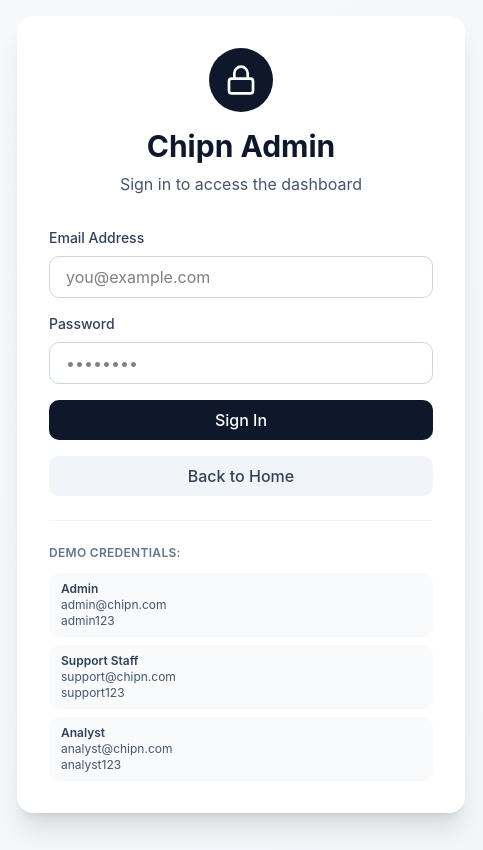
Test: AdminLoginPage › disables submit button while loading
Type "admin@chipn.com" into the field with placeholder "you@example.com" at (241, 276), box [49,256,433,298]
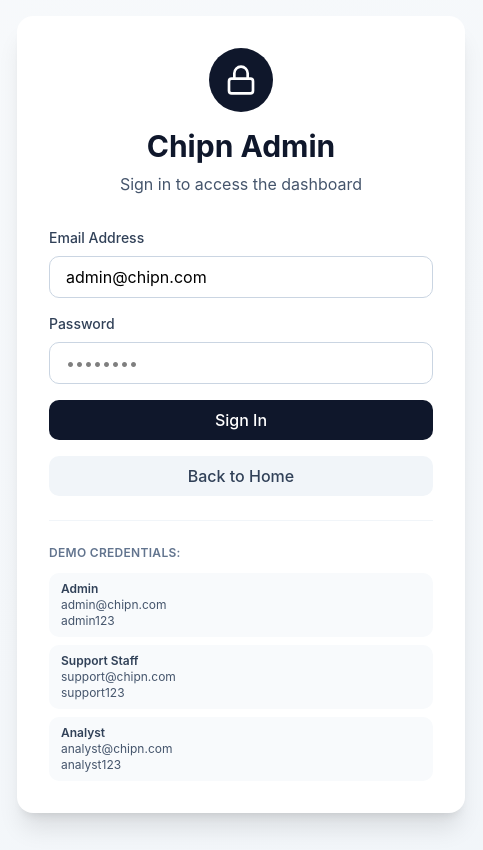
Type "admin123" into the password field with placeholder "••••••••" at (241, 362), box [49,342,433,384]
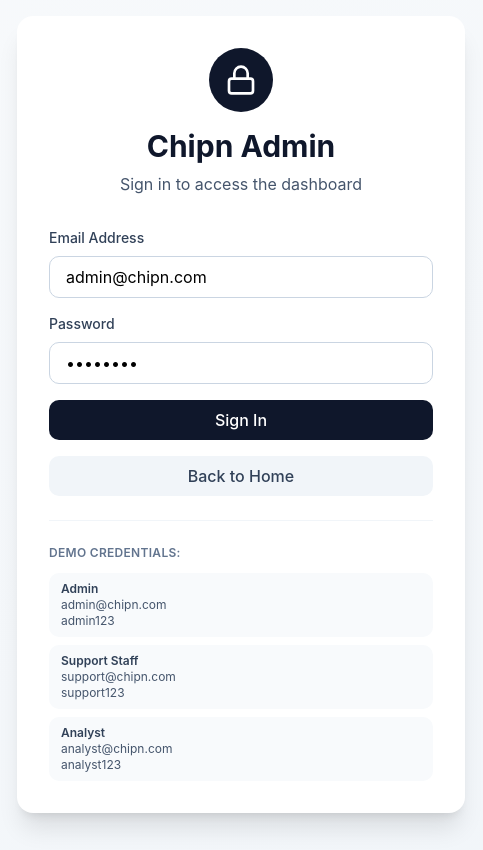
Click the button "Sign In" at (241, 420), box [49,400,433,440]
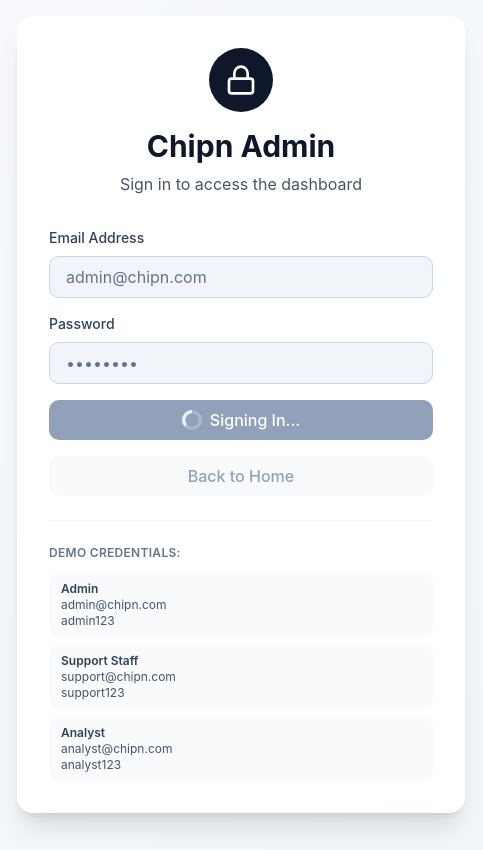
Expected: the button named "Sign In" is disabled, [49,400,433,440]
